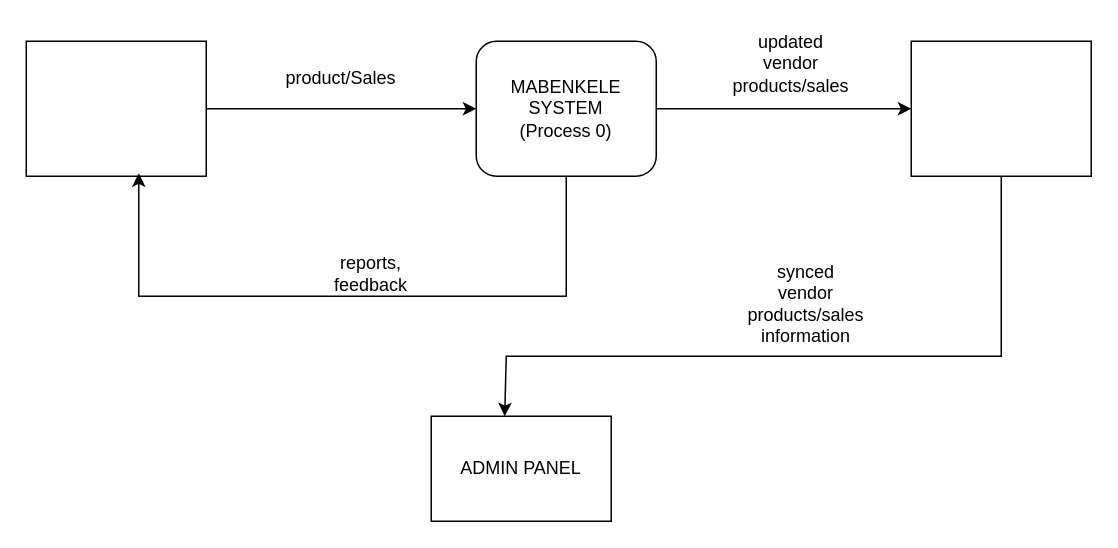
This 1118x548 diagram has some shape labels left out. The shapes that lost their labels are listed below. From the top down, each one's centre as x and y in pixels, then its label:
At point (115, 108): "VENDOR".
At point (1000, 108): "CLOUD SERVER".
